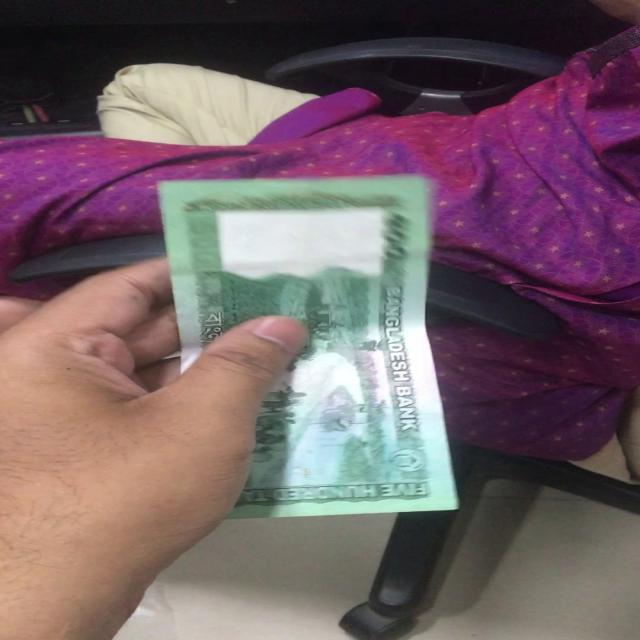Taka: (160, 181, 452, 512)
